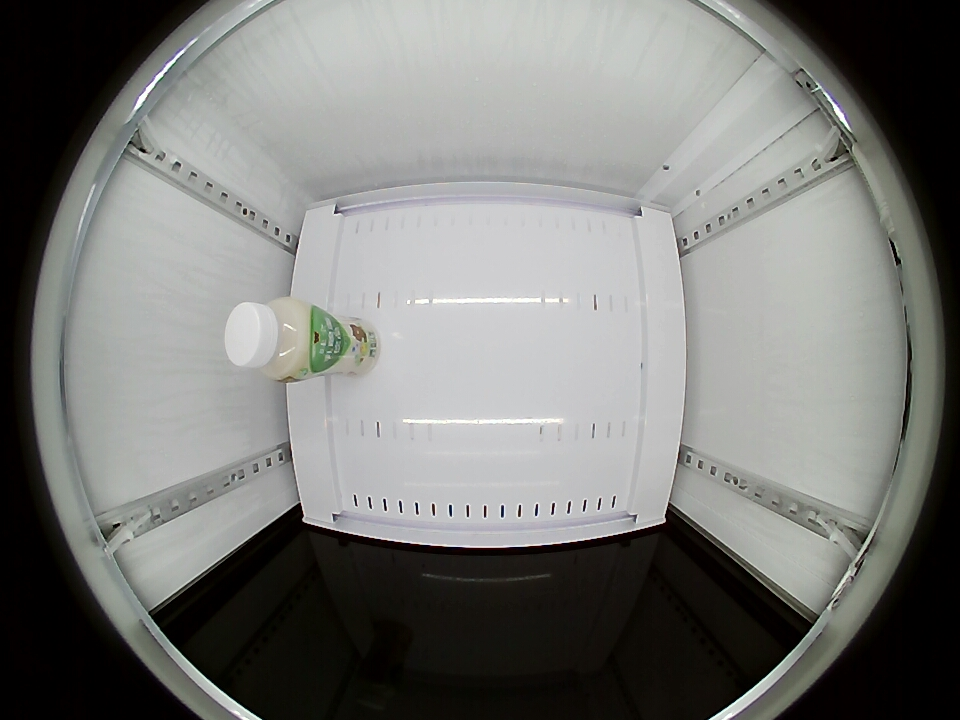yousuanru: (225, 297, 318, 381)
